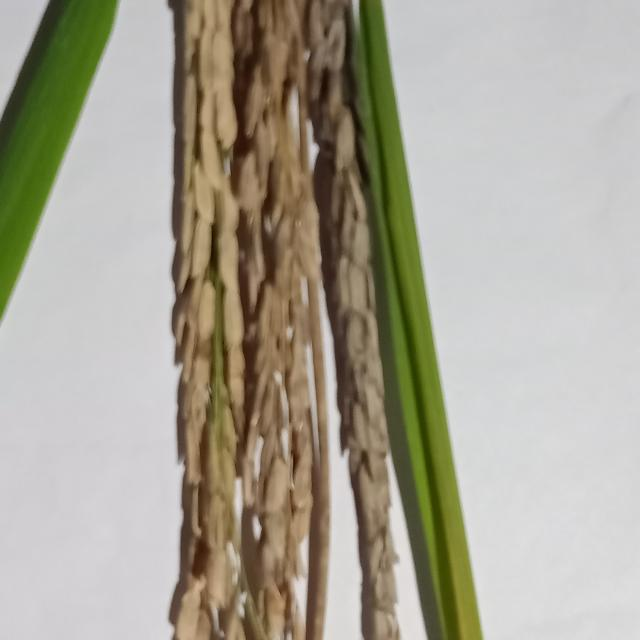Neck_Blast: (169, 1, 406, 640)
